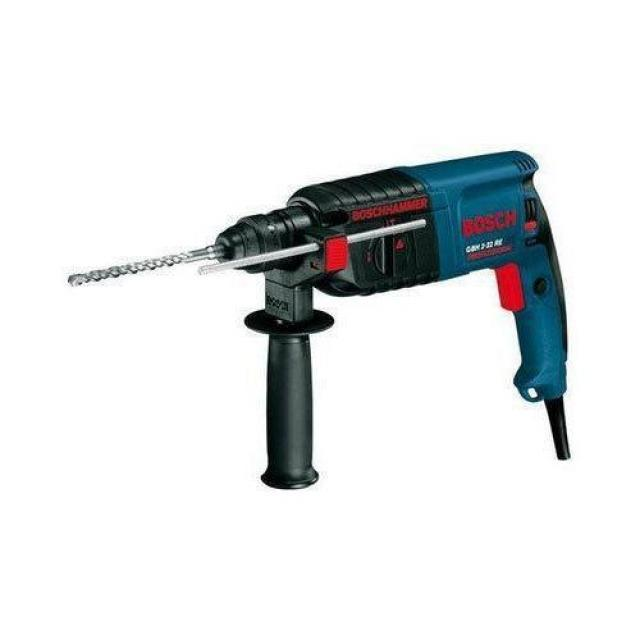drill: (64, 147, 574, 492)
